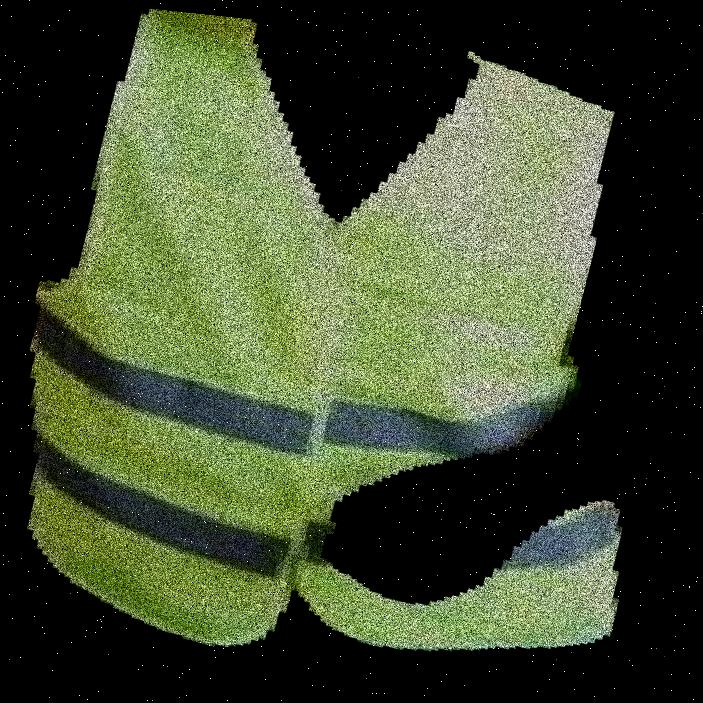Colete: (332, 0, 546, 702)
